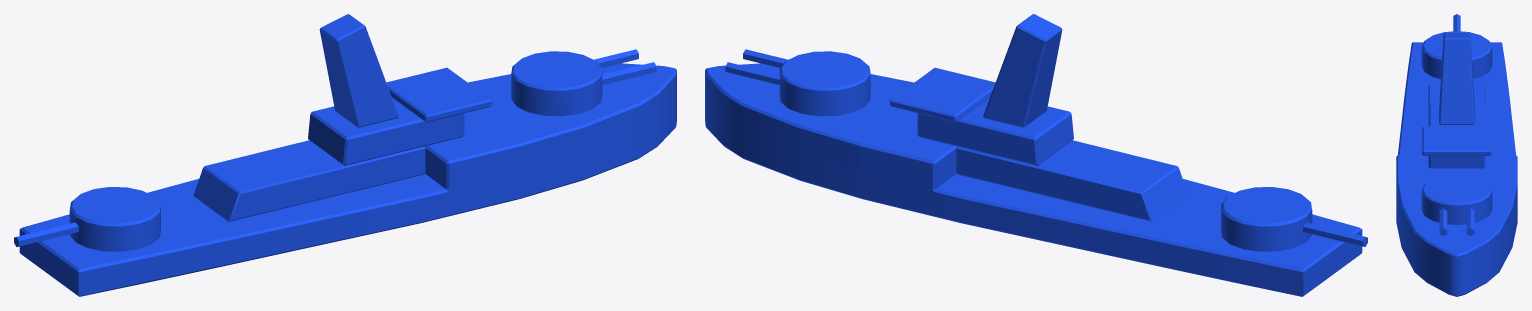
The model's file is Cruiser.fbx.
The picture shows the model from 3 angles, left to right: view 1: azimuth 30°, elevation 25°; view 2: azimuth 150°, elevation 25°; view 3: azimuth 270°, elevation 25°; orthographic projection. The views are drawn at different scales.
Parts seen in each view (by area): view 1: Hull, DoubleCannon, SingleCannon; view 2: Hull, DoubleCannon, SingleCannon; view 3: Hull, DoubleCannon, SingleCannon.
Boxes of the visible parts, x1,y1,x2,y2 form: Hull: (19,14,676,296); DoubleCannon: (511,49,656,116); SingleCannon: (14,187,160,251); Hull: (705,14,1362,296); DoubleCannon: (725,49,870,116); SingleCannon: (1221,187,1367,251); Hull: (1396,33,1517,296); DoubleCannon: (1421,175,1492,235); SingleCannon: (1421,14,1492,78).
Bounding box in the file's own units: 531 × 140 × 110.
1 material, 1 textured.
